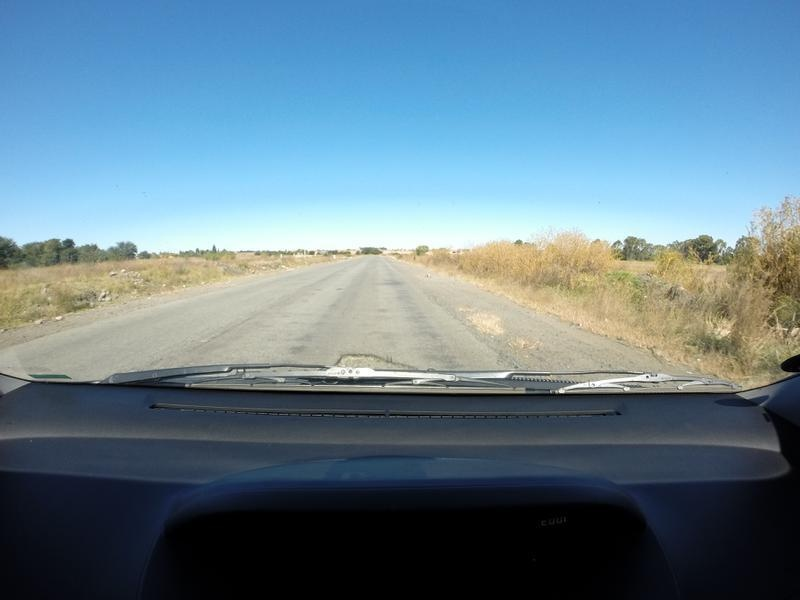pothole: (325, 355, 427, 366)
